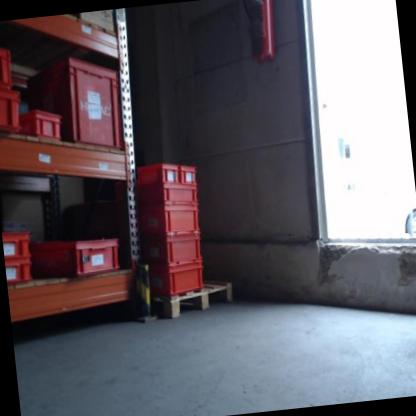pallet: (146, 278, 234, 322)
small_load_carrier: (22, 47, 127, 160), (32, 234, 119, 280), (145, 256, 207, 302), (133, 202, 200, 238), (136, 231, 203, 262), (15, 105, 64, 145), (131, 155, 180, 191), (131, 182, 199, 207), (0, 84, 28, 141), (2, 221, 34, 260), (5, 257, 38, 287), (0, 34, 16, 91), (174, 160, 198, 185)
